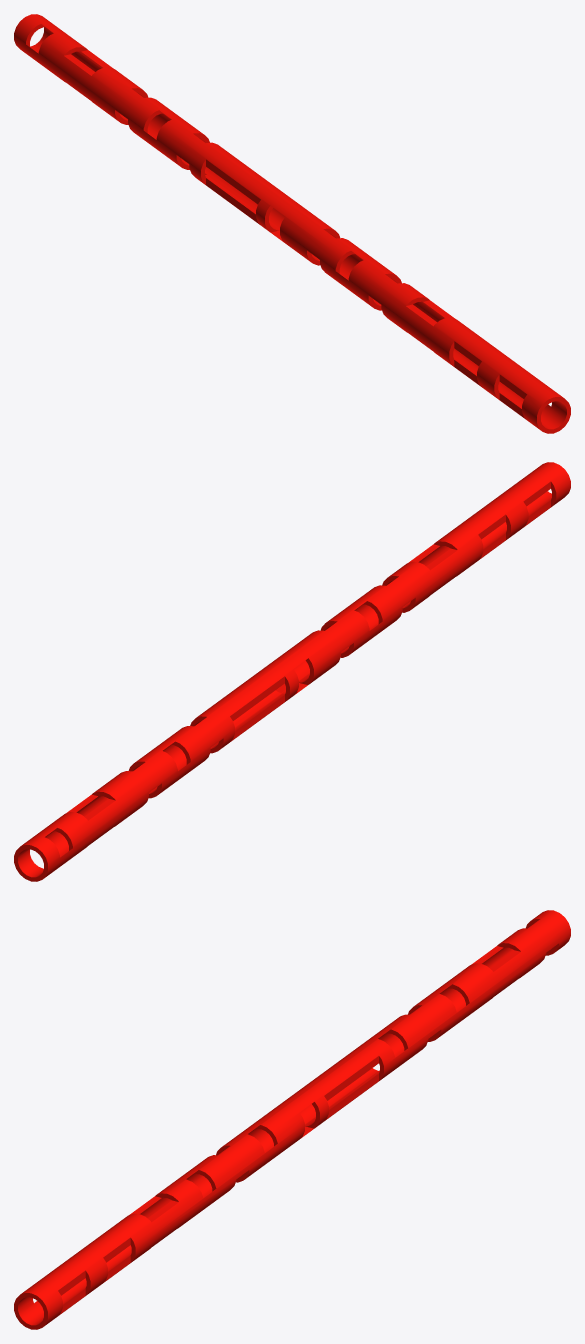
File: StraightTube2.FBX
The picture shows the model from 3 angles, top to bottom: view 1: azimuth 30°, elevation 25°; view 2: azimuth 150°, elevation 25°; view 3: azimuth 330°, elevation 25°; orthographic projection.
Visible parts, largest first — view 1: Tube001; view 2: Tube001; view 3: Tube001.
Part boxes in pixels (x1,y1,x2,y2): Tube001: [14, 14, 570, 433]; Tube001: [14, 462, 570, 881]; Tube001: [14, 910, 570, 1329].
Bounding box in the file's own units: 30.39 × 30.86 × 806.
